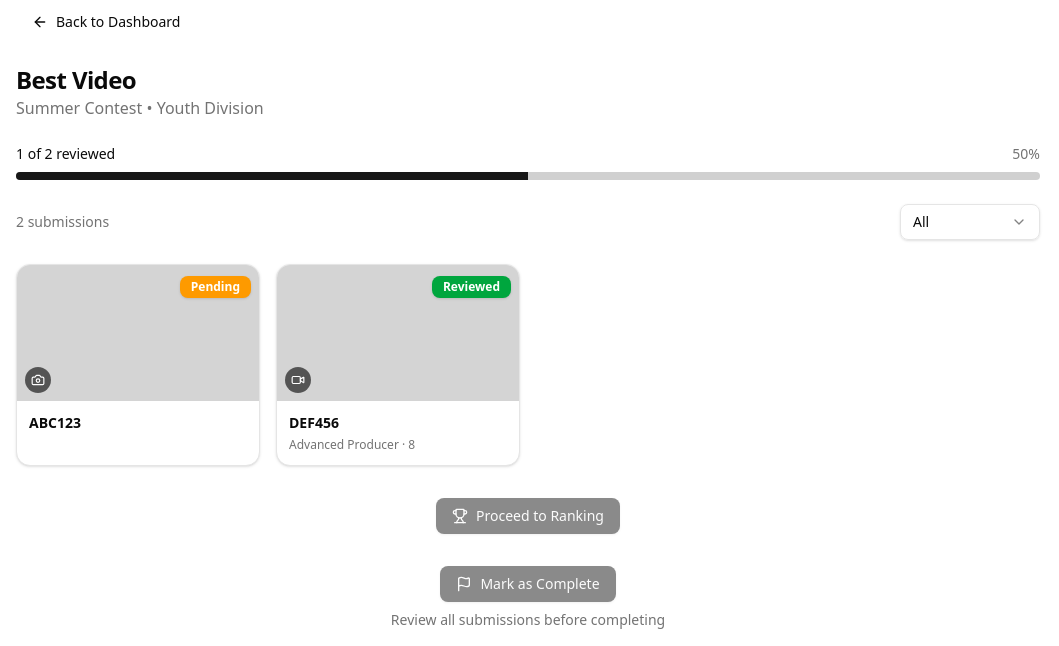
CategoryReviewPage › filters to show only pending submissions
This screenshot has width=1059, height=646.
// Open filter and select Pending
Click the dropdown at (970, 222), box [900,204,1040,240]
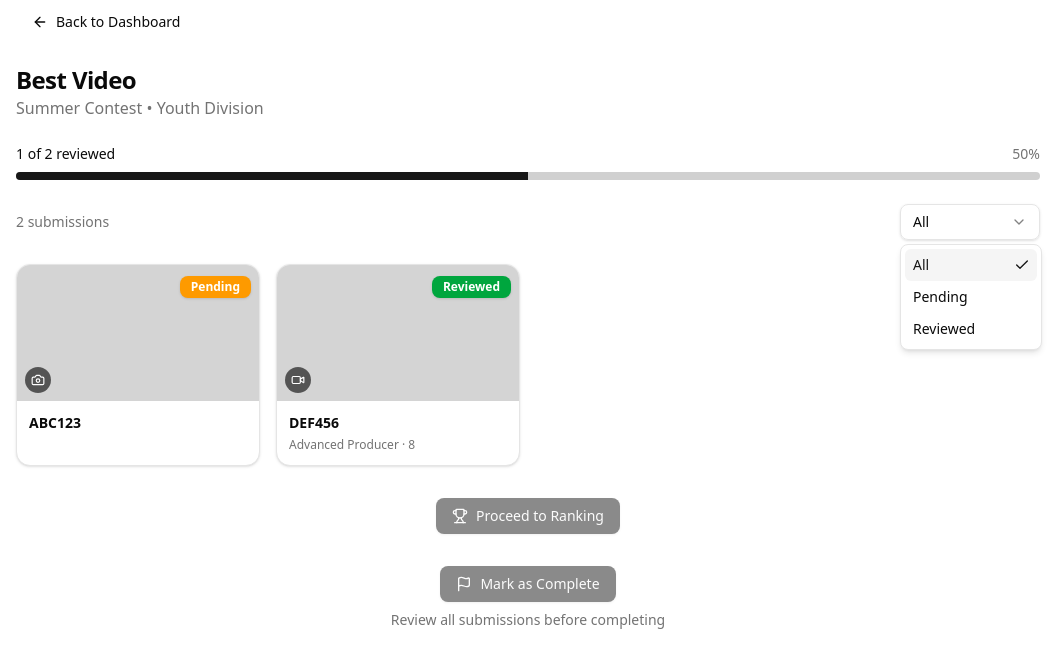
Click the option "Pending" at (940, 296), box [913,287,968,306]
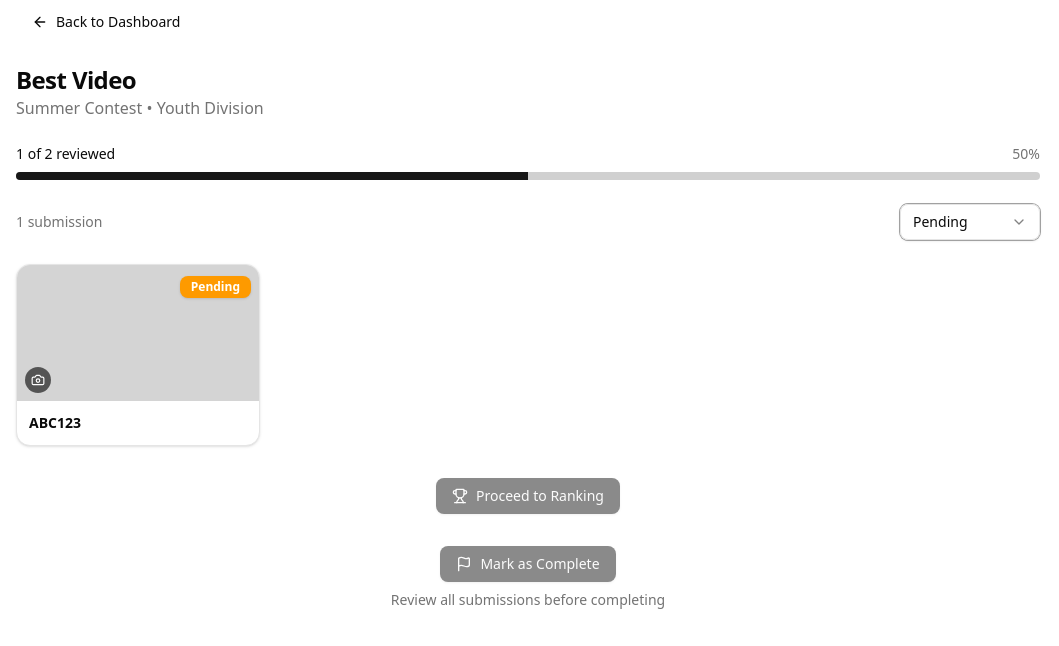
Expected: the text "ABC123" is shown, [29,413,81,432]
Expected: the button "DEF456" is gone
